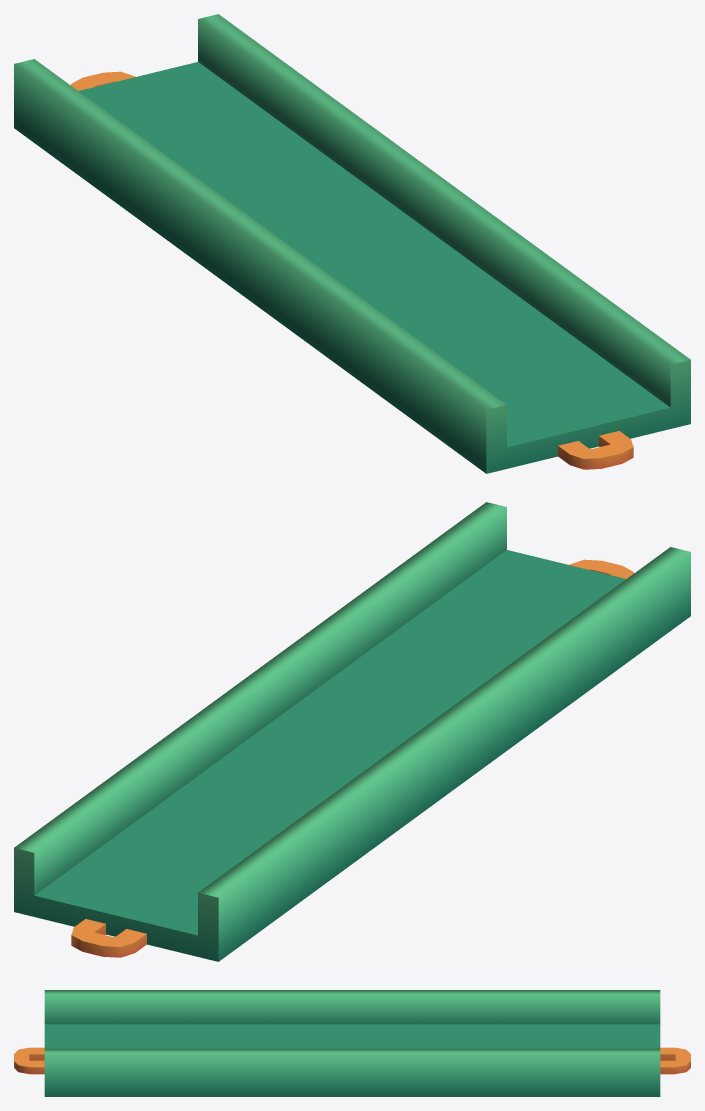
The model's file is track-narrow-straight.fbx.
The picture shows the model from 3 angles, top to bottom: view 1: azimuth 30°, elevation 25°; view 2: azimuth 150°, elevation 25°; view 3: azimuth 270°, elevation 25°; orthographic projection. The views are drawn at different scales.
Parts seen in each view (by area): view 1: track-narrow-straight; view 2: track-narrow-straight; view 3: track-narrow-straight.
Part boxes in pixels (bbox=[...]): track-narrow-straight: bbox=[14, 14, 690, 473]; track-narrow-straight: bbox=[14, 502, 690, 961]; track-narrow-straight: bbox=[14, 990, 690, 1096].
Bounding box in the file's own units: 100 × 30 × 440.
